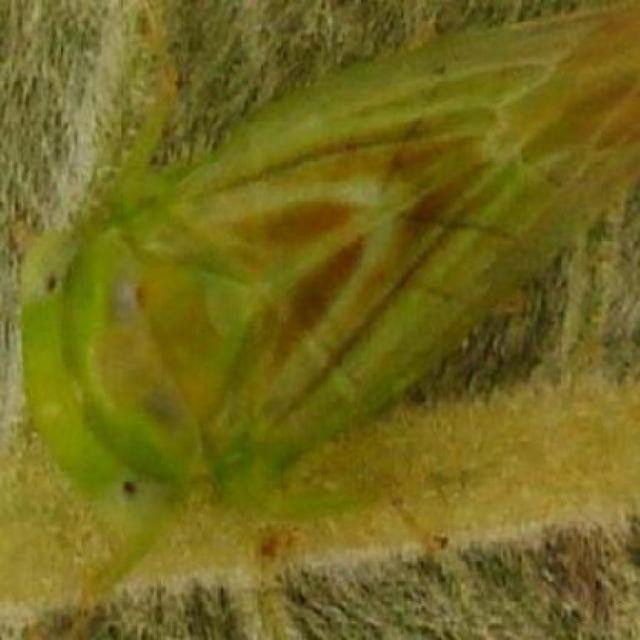green-leafhopper: (17, 1, 638, 618)
